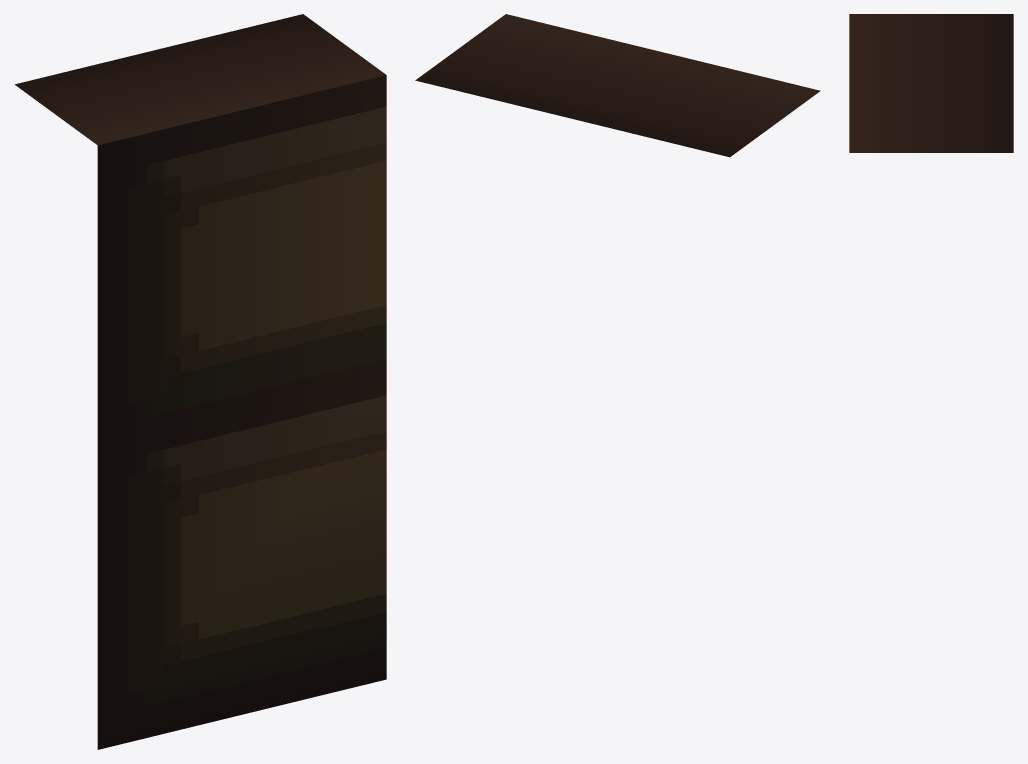
The picture shows the model from 3 angles, left to right: view 1: azimuth 30°, elevation 25°; view 2: azimuth 150°, elevation 25°; view 3: azimuth 270°, elevation 25°; orthographic projection. The views are drawn at different scales.
Bounding box in the file's own units: 1 × 2 × 0.5.
1 material, 1 textured.
